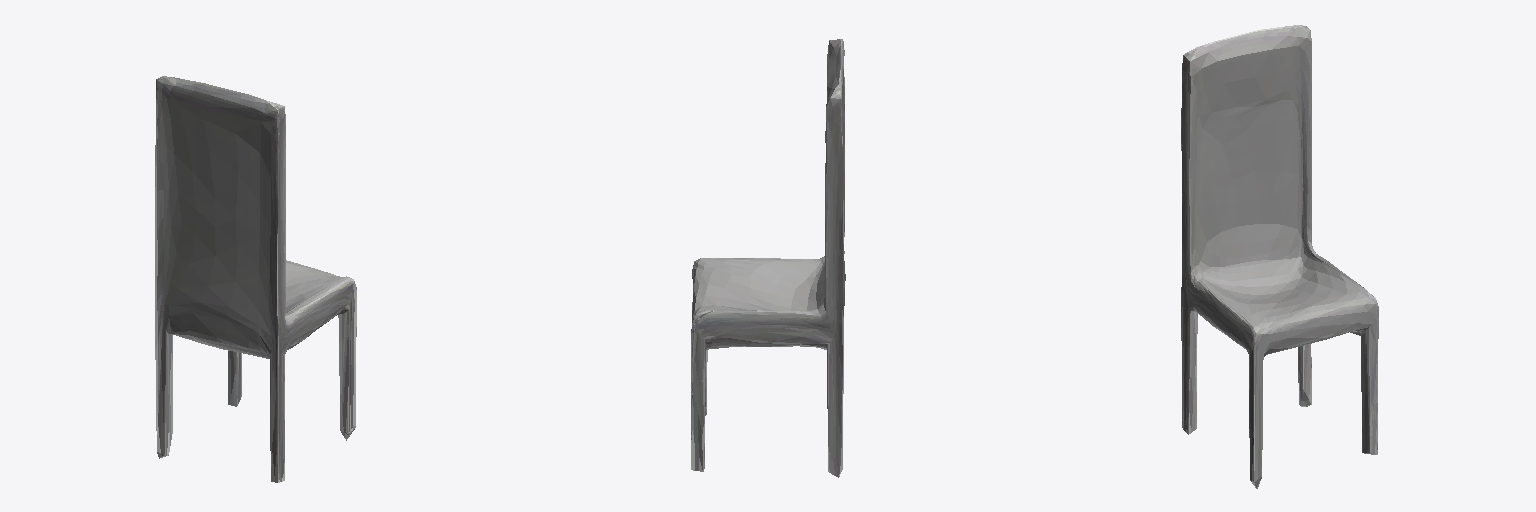
3 views of the same model, side by side, from view 1: azimuth 30°, elevation 25°; view 2: azimuth 150°, elevation 25°; view 3: azimuth 270°, elevation 25° (orthographic).
Bounding box in the file's own units: 0.4723 × 1 × 0.4572.
Materials: 1 (1 with a texture image).